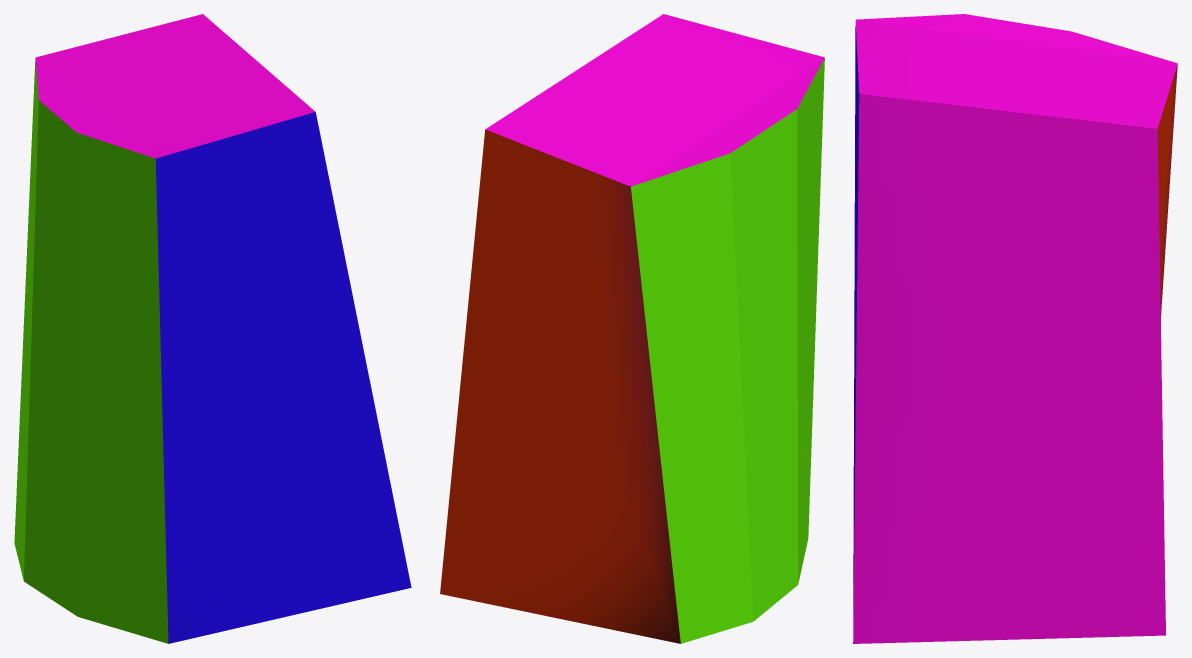
The model's file is Statue3-1.fbx.
The picture shows the model from 3 angles, left to right: view 1: azimuth 30°, elevation 25°; view 2: azimuth 150°, elevation 25°; view 3: azimuth 270°, elevation 25°; orthographic projection. The views are drawn at different scales.
Visible parts, largest first — view 1: Cube.007; view 2: Cube.007; view 3: Cube.007.
Part boxes in pixels (left/top/right/bottom): Cube.007: left=14, top=14, right=411, bottom=643; Cube.007: left=440, top=14, right=824, bottom=643; Cube.007: left=853, top=14, right=1177, bottom=643.
Size of the model in its own units: 78.99 by 132 by 76.91.
